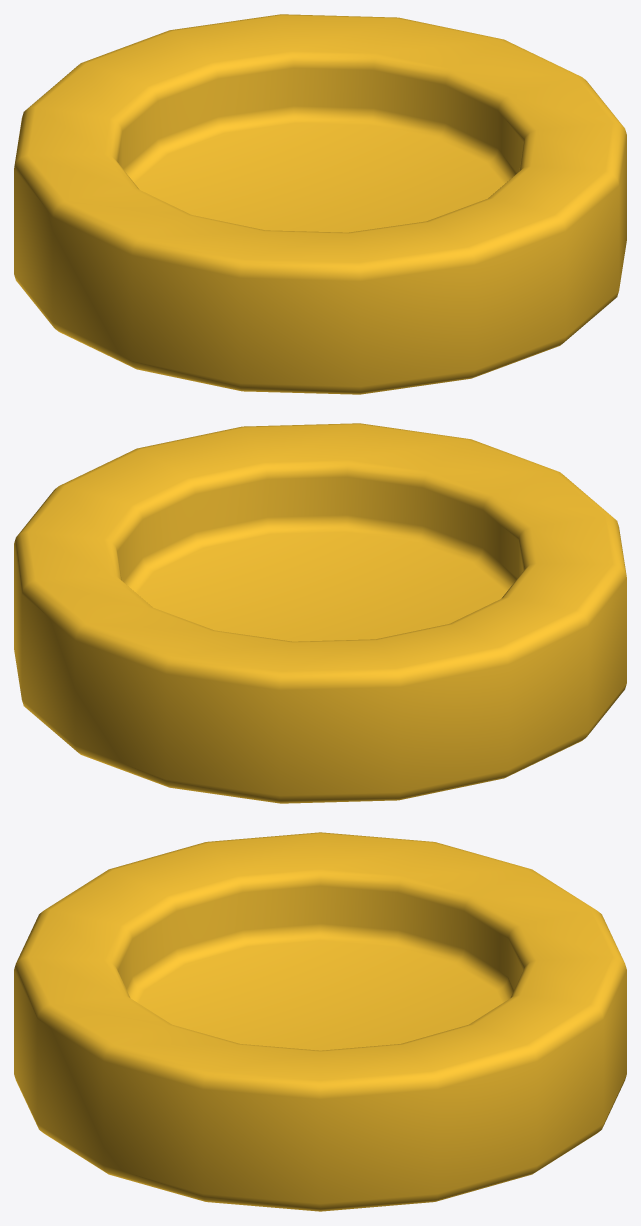
File: Gold_2.fbx
3 renders of one model, top to bottom at view 1: azimuth 30°, elevation 25°; view 2: azimuth 150°, elevation 25°; view 3: azimuth 270°, elevation 25°, orthographic.
Parts seen in each view (by area): view 1: Cylinder.027; view 2: Cylinder.027; view 3: Cylinder.027.
Boxes of the visible parts, box(x1,y1,x2,y2) form: Cylinder.027: box(14, 14, 626, 394); Cylinder.027: box(14, 423, 626, 803); Cylinder.027: box(14, 832, 626, 1211).
Size of the model in its own units: 1.35 by 0.3159 by 1.35.
Materials: 1 (1 with a texture image).
